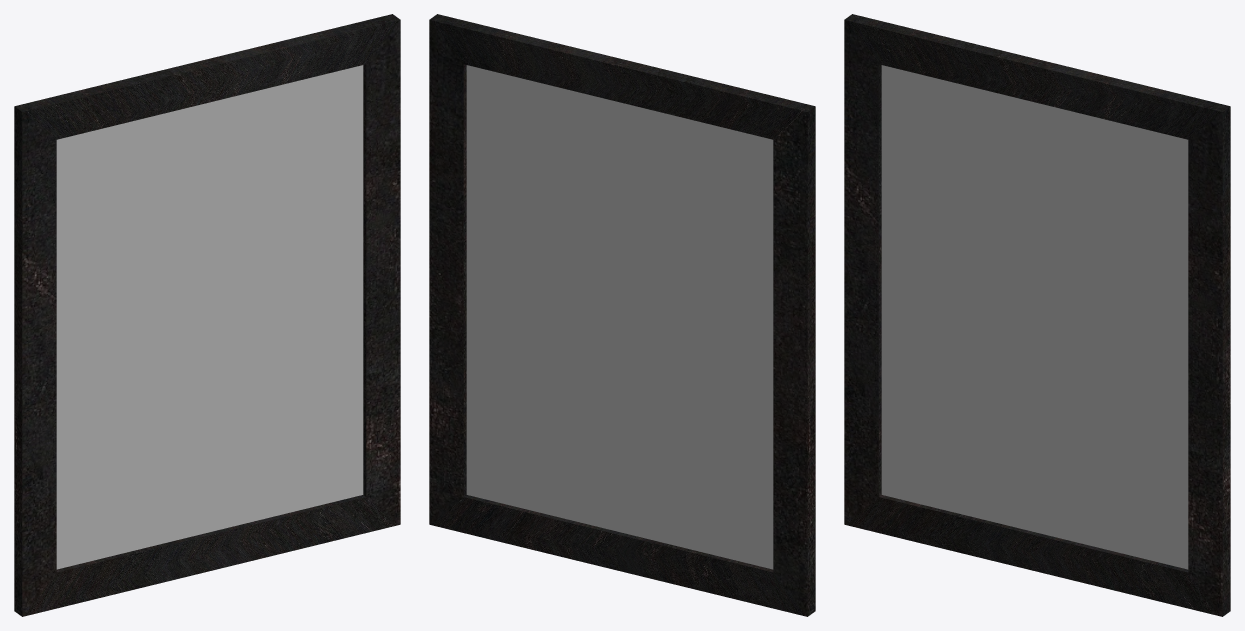
The model's file is simple small window black.fbx.
3 renders of one model, left to right at view 1: azimuth 30°, elevation 25°; view 2: azimuth 150°, elevation 25°; view 3: azimuth 330°, elevation 25°, orthographic.
Parts seen in each view (by area): view 1: glass, frame; view 2: glass, frame; view 3: glass, frame.
Part boxes in pixels (<box>): glass: <box>56,65,363,569</box>; frame: <box>14,14,400,616</box>; glass: <box>466,65,773,569</box>; frame: <box>429,14,815,616</box>; glass: <box>881,65,1188,569</box>; frame: <box>844,14,1230,616</box>.
Size of the model in its own units: 110 by 140 by 4.
